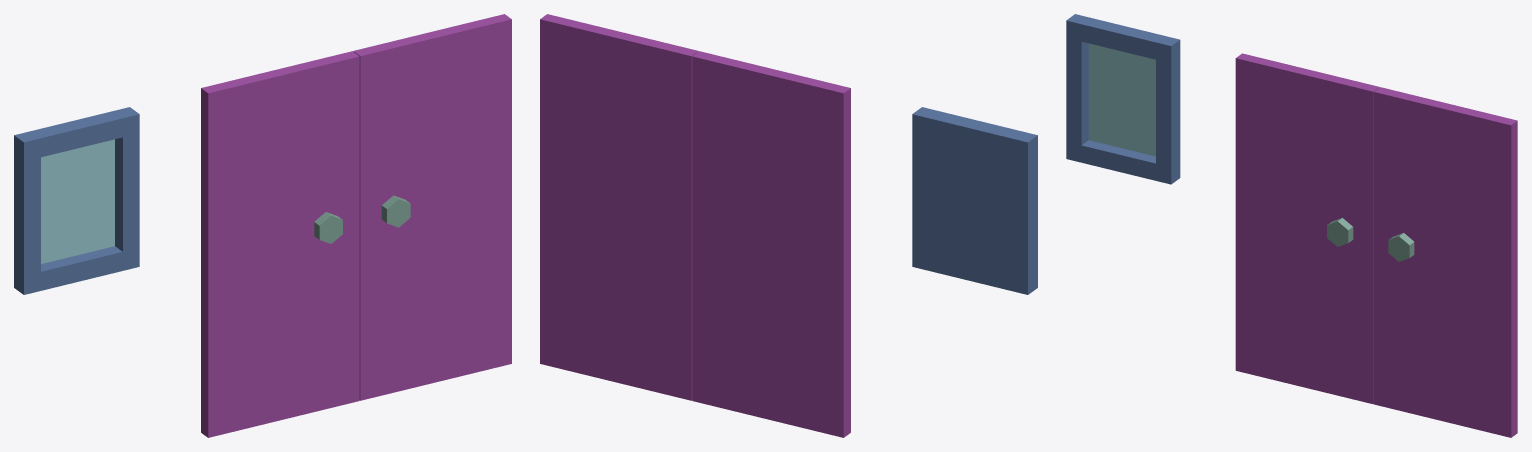
The model's file is facade_3.fbx.
3 views of the same model, side by side, from view 1: azimuth 30°, elevation 25°; view 2: azimuth 150°, elevation 25°; view 3: azimuth 330°, elevation 25° (orthographic). The views are drawn at different scales.
Visible parts, largest first — view 1: door, door1, window_front1, door_knob (×2); view 2: door, door1, window_front1; view 3: door1, door, window_front1, door_knob (×2).
Boxes of the visible parts, x1=… form: door: x1=201, y1=51, x2=359, y2=437; door1: x1=353, y1=14, x2=511, y2=400; window_front1: x1=14, y1=107, x2=139, y2=294; door_knob (×2): x1=314, y1=195, x2=410, y2=243; door: x1=692, y1=51, x2=850, y2=437; door1: x1=540, y1=14, x2=698, y2=400; window_front1: x1=912, y1=107, x2=1037, y2=294; door1: x1=1373, y1=87, x2=1517, y2=437; door: x1=1235, y1=53, x2=1379, y2=403; window_front1: x1=1066, y1=14, x2=1180, y2=184; door_knob (×2): x1=1327, y1=218, x2=1414, y2=261.
Size of the model in its own units: 76.96 by 51.8 by 3.78.
